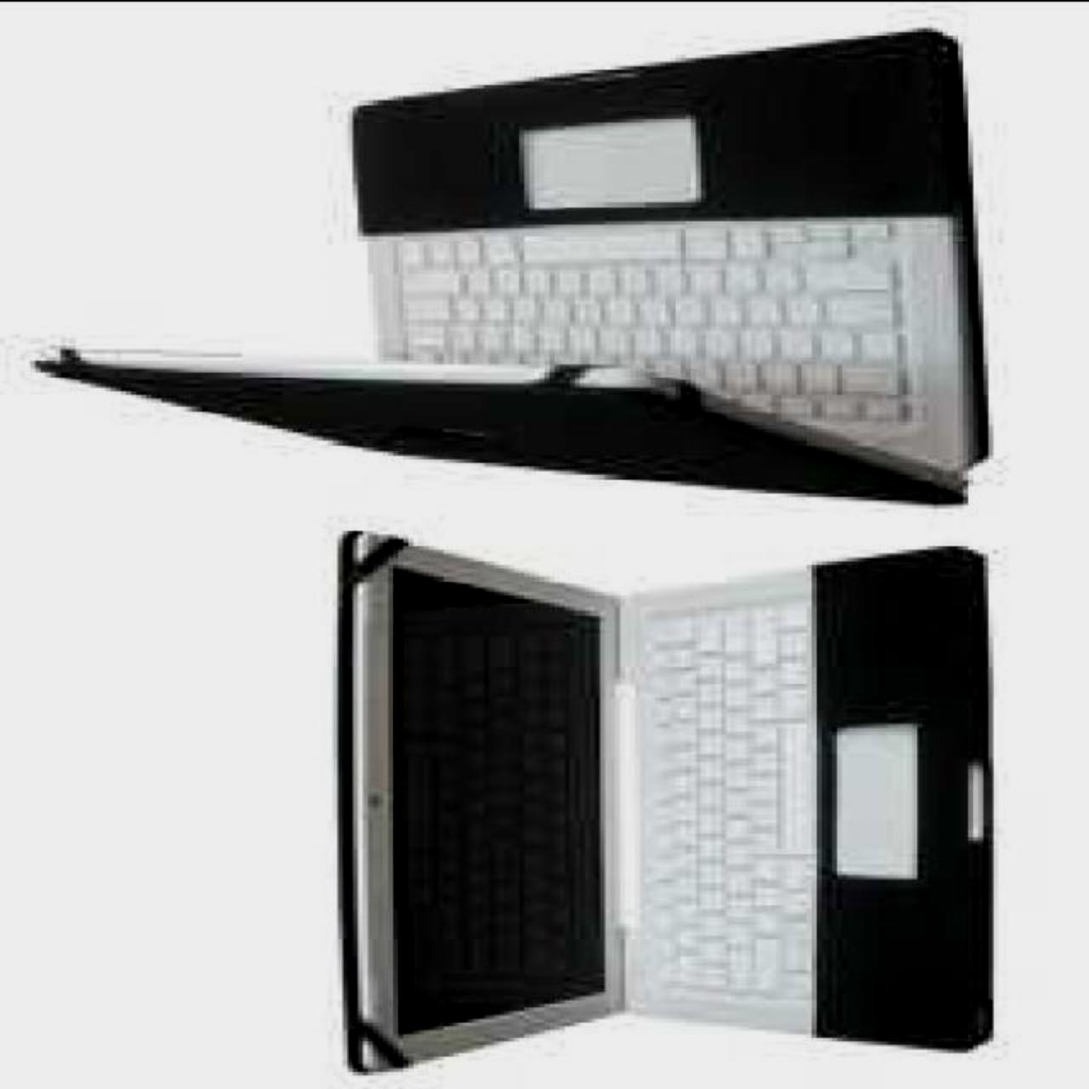laptop: (44, 54, 984, 507), (349, 531, 1040, 1075)
